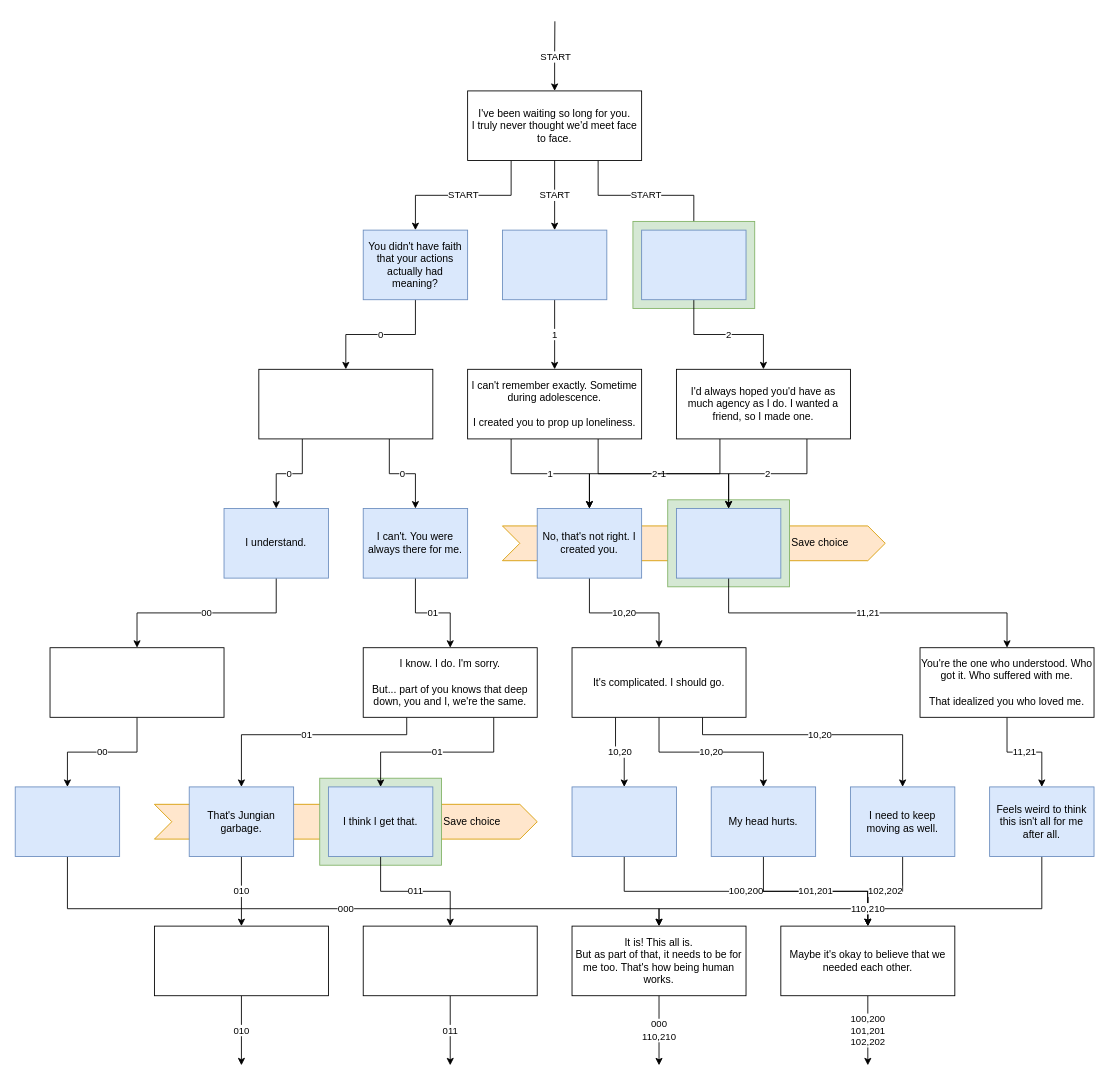
Some shapes in this 1109 by 1088 pixel diagram are drawn without their labels. The shapes that lost their labels are listed below. From the top down, each one's centre as x and y in pixels, then its label:
(554,264): When did you start waiting?
(693,264): I felt the same way.
(345,403): You'll forgive me for being human. My worries tend to get the best of me.
(728,543): Who am I?
(136,682): Are you mad at me for doubting your existence?
(67,821): Just disappointed. Feels weird to think this isn't all for me after all.
(623,821): Please, don't leave me.
(241,960): If you don't understand, I can't explain it to you. Keep moving.
(449,960): We all matter differently to different people.
